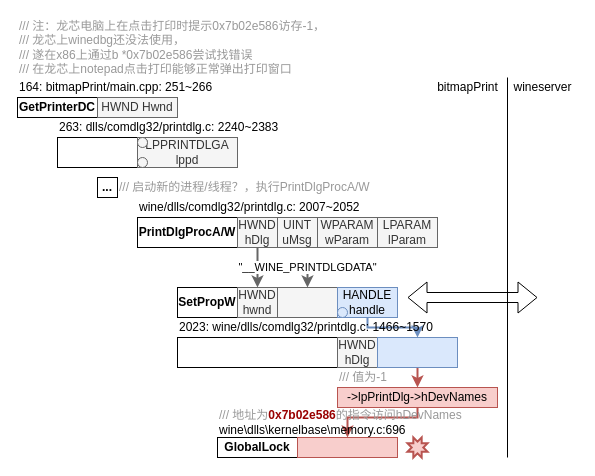
Some shapes in this 595 by 476 pixel diagram are drawn without their labels. The box of each missing label's shape, as (x1, y1, x2, y2) in pixels:
HGLOBAL hmem: (296, 436, 398, 458)
LPCWSTR str: (276, 286, 338, 318)
PRINT_PTRA* PrintStructures: (376, 336, 458, 368)
PRINTDLG_WMInitDialog: (176, 336, 338, 368)
PrintDlgA/W: (56, 136, 138, 168)
